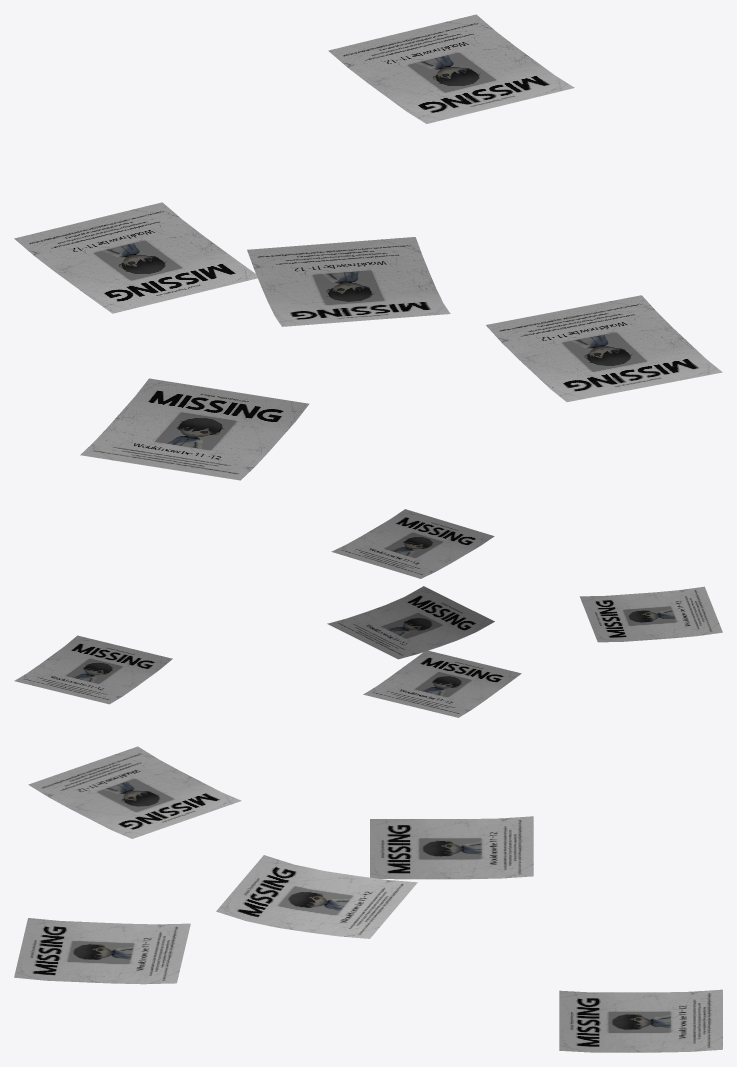
The model's file is SM_Stage_Final_Paper_01.fbx.
3 renders of one model, top to bottom at view 1: azimuth 30°, elevation 25°; view 2: azimuth 150°, elevation 25°; view 3: azimuth 270°, elevation 25°, orthographic. The views are drawn at different scales.
Visible parts, largest first — view 1: SM_Stage_Final_Paper_01; view 2: SM_Stage_Final_Paper_01; view 3: SM_Stage_Final_Paper_01.
Boxes of the visible parts, x1,y1,x2,y2 form: SM_Stage_Final_Paper_01: (14, 14, 722, 480); SM_Stage_Final_Paper_01: (14, 509, 722, 717); SM_Stage_Final_Paper_01: (14, 746, 722, 1052).
Bounding box in the file's own units: 151 × 1.59 × 150.
1 material, 1 textured.
